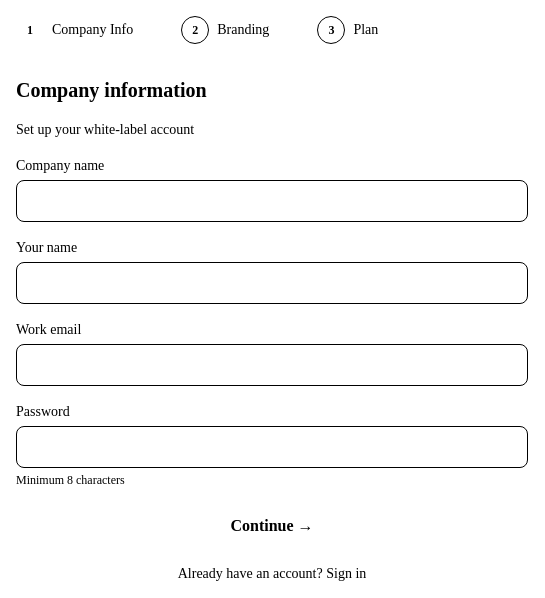
Test case: WLSignupPage › shows success state after signup
The image size is (545, 598).
Note: Complete all steps (abbreviated)
Type "My Co" into the field below "Company name".
click(272, 201); type("My Co")  # box [16,180,528,222]
Type "Me" into the field below "Your name".
click(272, 283); type("Me")  # box [16,262,528,304]
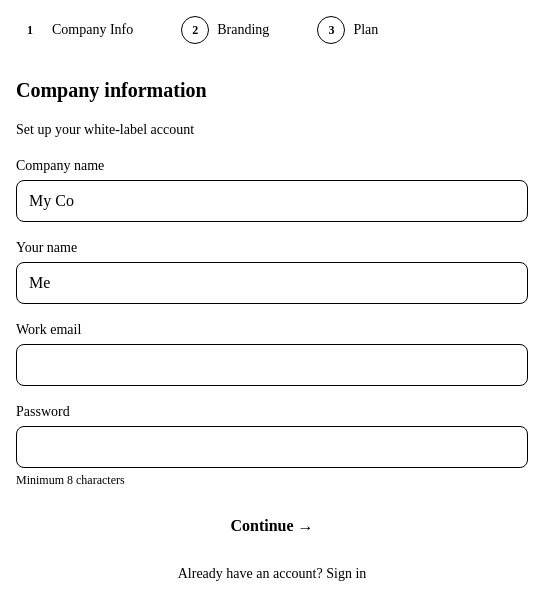
Type "me@myco.com" into the field below "Work email".
click(272, 365); type("me@myco.com")  # box [16,344,528,386]
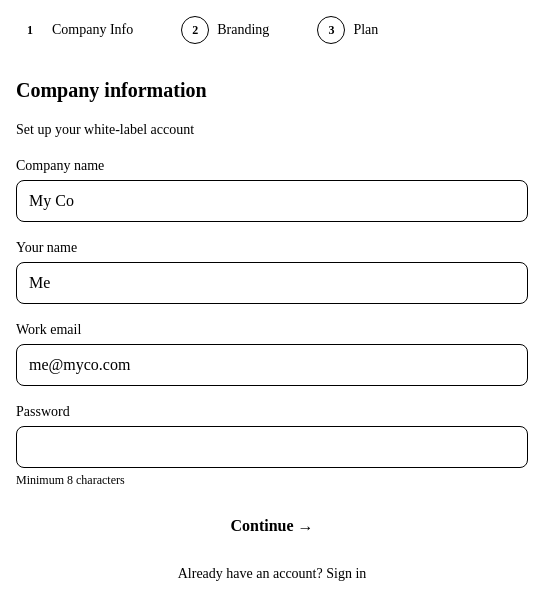
Type "password456" into the password field.
click(272, 447); type("password456")  # box [16,426,528,468]
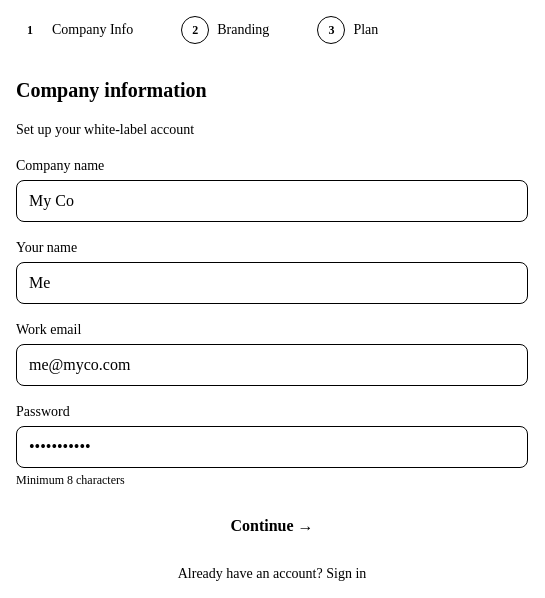
Click the button "Continue →".
click(272, 526)  # box [16,504,528,548]
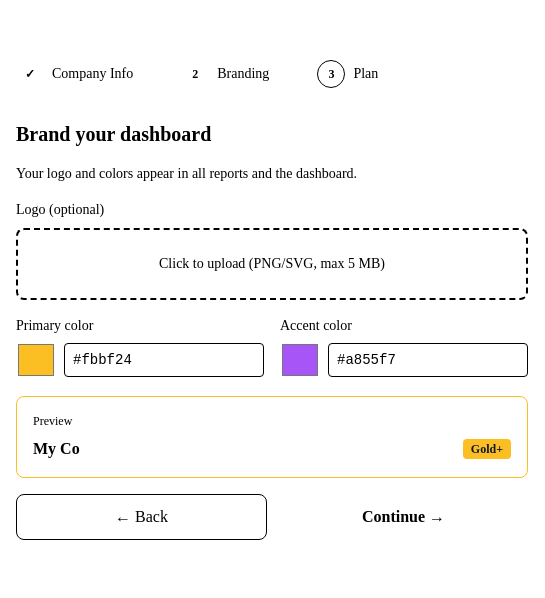
expect the heading "Brand your dashboard" is shown: met, box [16,123,211,145]
Click the button "Continue →".
click(404, 517)  # box [279,494,528,540]
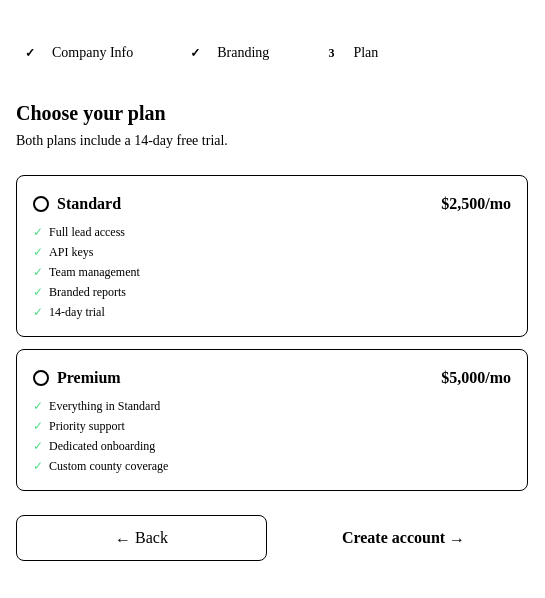
expect the heading "Choose your plan" is shown: met, box [16,102,166,124]
Click the button "Create account →".
click(404, 538)  # box [279,515,528,561]
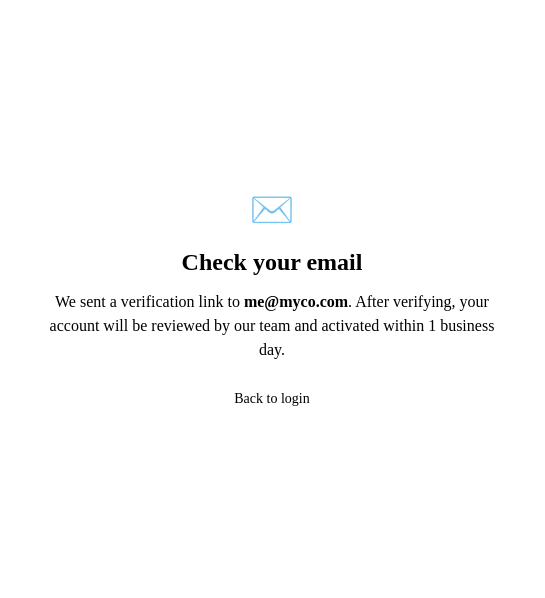
expect the heading "Check your email" is shown: met, box [182,249,362,275]
